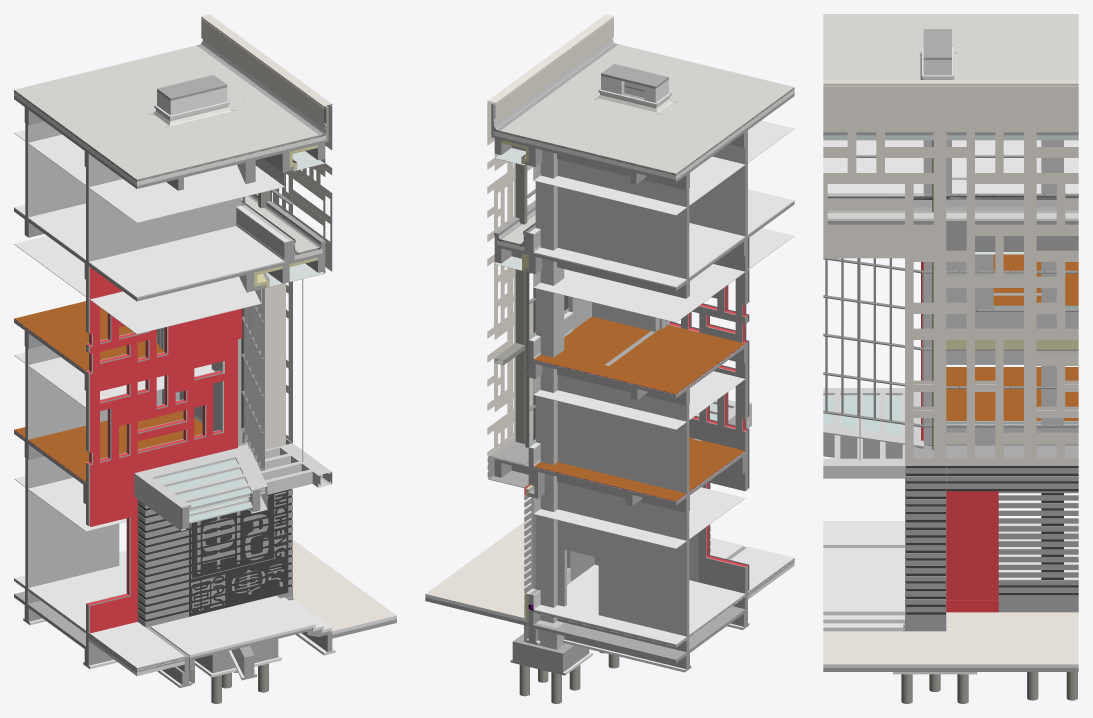
The model's file is yuncheng01.glb.
3 views of the same model, side by side, from view 1: azimuth 30°, elevation 25°; view 2: azimuth 150°, elevation 25°; view 3: azimuth 270°, elevation 25° (orthographic). The views are drawn at different scales.
Visible parts, largest first — view 1: 涂料－06, 001-内墙-涂料-白色, 646-材质-混凝土, 303-屋面-水泥砂浆保护层, 405-顶棚-纸面石膏板吊顶, 119-外墙-铝合金板、金属墙, 涂料－02, 207-楼地面-瓷砖-浅色, 110-外墙-花岗岩-黑色, 606-材质-金属-铝合金, 216-楼地面-复合地板, 635-材质-石材-花岗岩 (+14 smaller); view 2: 001-内墙-涂料-白色, 646-材质-混凝土, 303-屋面-水泥砂浆保护层, 405-顶棚-纸面石膏板吊顶, 216-楼地面-复合地板, 119-外墙-铝合金板、金属墙, 513-场地-花岗岩硬地面-浅色, 220-楼地面-花岗岩石板, 207-楼地面-瓷砖-浅色, 609-材质-金属-钢, 647-材质-水泥砂浆, 110-外墙-花岗岩-黑色 (+8 smaller); view 3: 119-外墙-铝合金板、金属墙, 110-外墙-花岗岩-黑色, 303-屋面-水泥砂浆保护层, 513-场地-花岗岩硬地面-浅色, 001-内墙-涂料-白色, 646-材质-混凝土, 635-材质-石材-花岗岩, 涂料－06, 616-材质-金属-银色, 606-材质-金属-铝合金, 207-楼地面-瓷砖-浅色, 216-楼地面-复合地板 (+11 smaller).
Boxes of the visible parts, x1,y1,x2,y2 form: 涂料－06: (87, 267, 242, 633); 001-内墙-涂料-白色: (28, 121, 293, 587); 646-材质-混凝土: (14, 40, 396, 687); 303-屋面-水泥砂浆保护层: (14, 45, 318, 252); 405-顶棚-纸面石膏板吊顶: (14, 130, 283, 531); 119-外墙-铝合金板、金属墙: (201, 14, 331, 452); 涂料－02: (138, 443, 292, 621); 207-楼地面-瓷砖-浅色: (14, 203, 283, 296); 110-外墙-花岗岩-黑色: (137, 101, 292, 627); 606-材质-金属-铝合金: (134, 443, 331, 530); 216-楼地面-复合地板: (14, 301, 202, 482); 635-材质-石材-花岗岩: (14, 578, 332, 668); 001-内墙-涂料-白色: (524, 144, 745, 649); 646-材质-混凝土: (425, 39, 794, 675); 303-屋面-水泥砂浆保护层: (500, 44, 793, 243); 405-顶棚-纸面石膏板吊顶: (534, 120, 793, 548); 216-楼地面-复合地板: (534, 316, 744, 501); 119-外墙-铝合金板、金属墙: (488, 14, 613, 456); 513-场地-花岗岩硬地面-浅色: (426, 518, 531, 620); 220-楼地面-花岗岩石板: (534, 564, 744, 644); 207-楼地面-瓷砖-浅色: (534, 189, 793, 286); 609-材质-金属-钢: (495, 163, 619, 703); 647-材质-水泥砂浆: (425, 38, 794, 647); 110-外墙-花岗岩-黑色: (488, 90, 710, 619); 119-外墙-铝合金板、金属墙: (823, 80, 1078, 465); 110-外墙-花岗岩-黑色: (903, 45, 1078, 631); 303-屋面-水泥砂浆保护层: (823, 14, 1078, 218); 513-场地-花岗岩硬地面-浅色: (823, 612, 1078, 664); 001-内墙-涂料-白色: (827, 140, 1078, 579); 646-材质-混凝土: (823, 29, 1078, 671); 635-材质-石材-花岗岩: (823, 548, 904, 631); 涂料－06: (921, 262, 998, 612); 616-材质-金属-银色: (823, 155, 1078, 427); 606-材质-金属-铝合金: (823, 388, 923, 478); 207-楼地面-瓷砖-浅色: (823, 140, 1078, 190); 216-楼地面-复合地板: (946, 254, 1078, 420).
Bounding box in the file's own units: 0.8911 × 1.99 × 0.7291.
36 materials, 2 textured.
